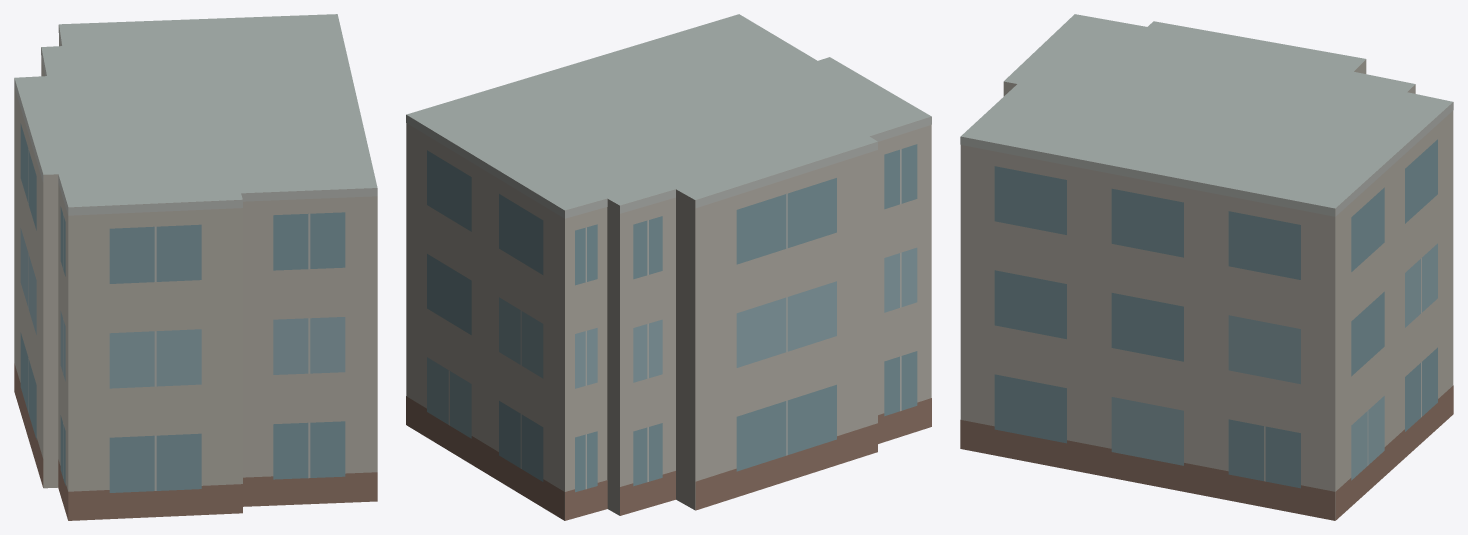
File: survey-upis-32674150.glb
3 renders of one model, left to right at view 1: azimuth 30°, elevation 25°; view 2: azimuth 150°, elevation 25°; view 3: azimuth 270°, elevation 25°, orthographic.
Parts seen in each view (by area): view 1: survey-upis-32674150.tmp; view 2: survey-upis-32674150.tmp; view 3: survey-upis-32674150.tmp.
Boxes of the visible parts, <box> form: survey-upis-32674150.tmp: <box>14,14,377,520</box>; survey-upis-32674150.tmp: <box>406,14,931,520</box>; survey-upis-32674150.tmp: <box>960,14,1453,520</box>.
Size of the model in its own units: 12.23 by 9.15 by 13.1.
